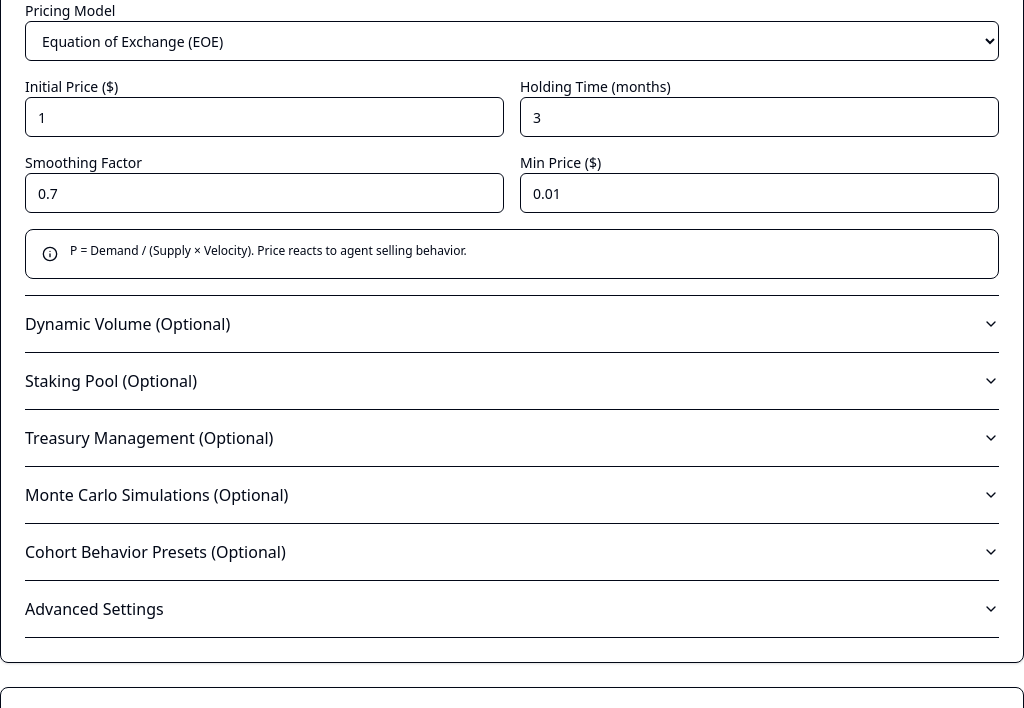
Test: ABM Configuration Form - User Interactions › Staking Configuration › disables staking and hides staking fields
The image size is (1024, 708).
(page scrolled)
Click staking accordion to expand it
Click the button "Staking Pool (Optional)": (111, 381) [25, 353, 999, 409]
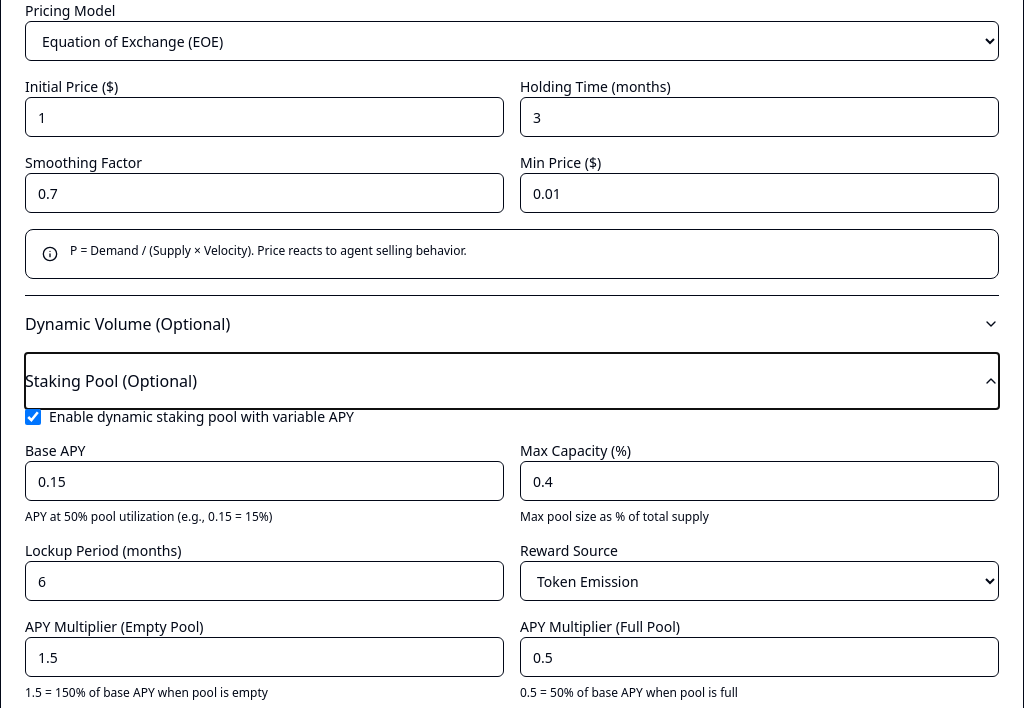
Uncheck staking
Click the checkbox labelled "Enable dynamic staking pool with variable APY": (33, 417) [25, 409, 41, 425]
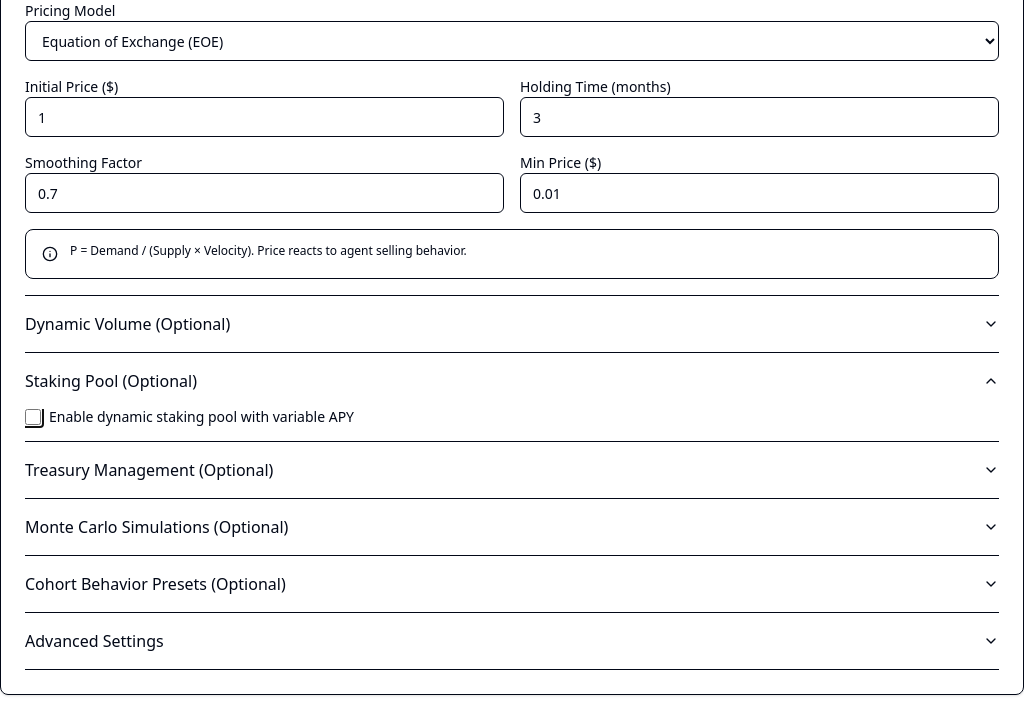
Now the label labelled "Base APY" is gone
